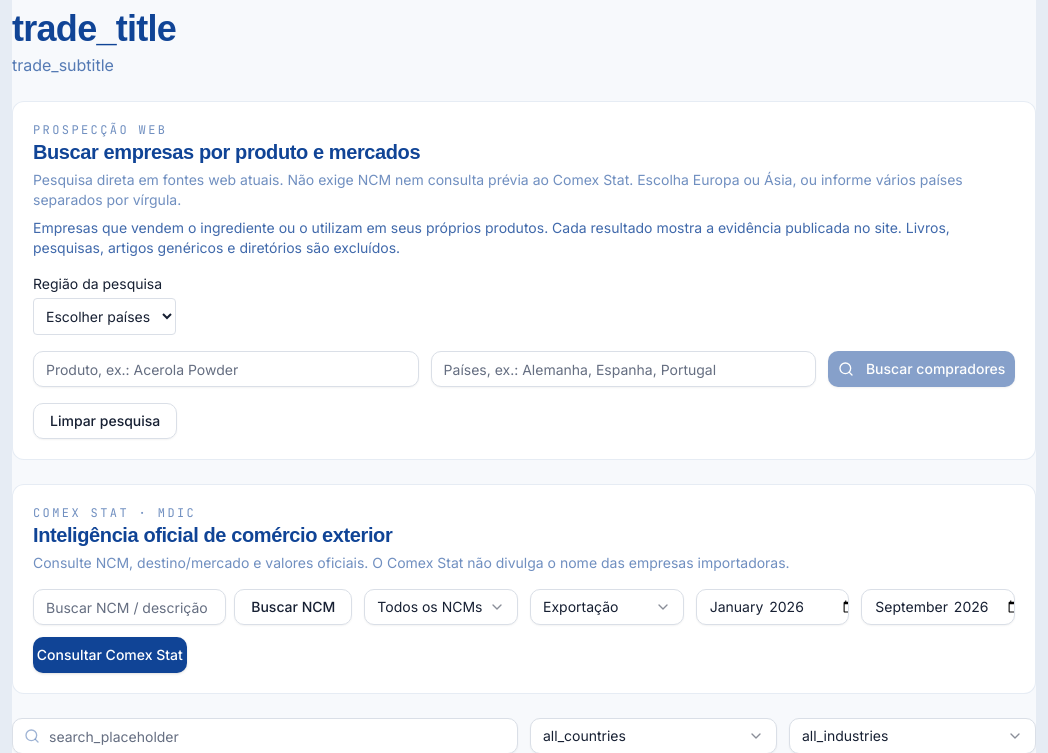
Test: company results distinguish sellers from ingredient users and display their published evidence
In the field with placeholder "Produto, ex.: Acerola Powder": [226, 369] box 33,351 -> 419,387, type "Acerola"
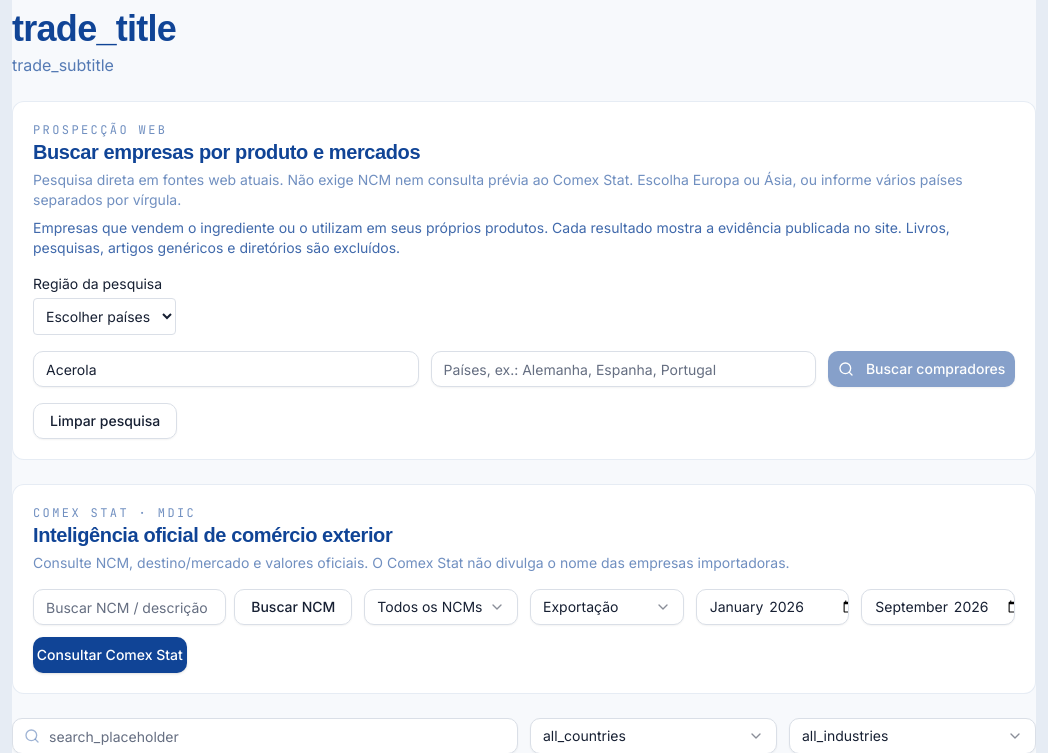
In the field with placeholder "Países, ex.: Alemanha, Espanha, Portugal": [623, 369] box 431,351 -> 816,387, type "Portugal"
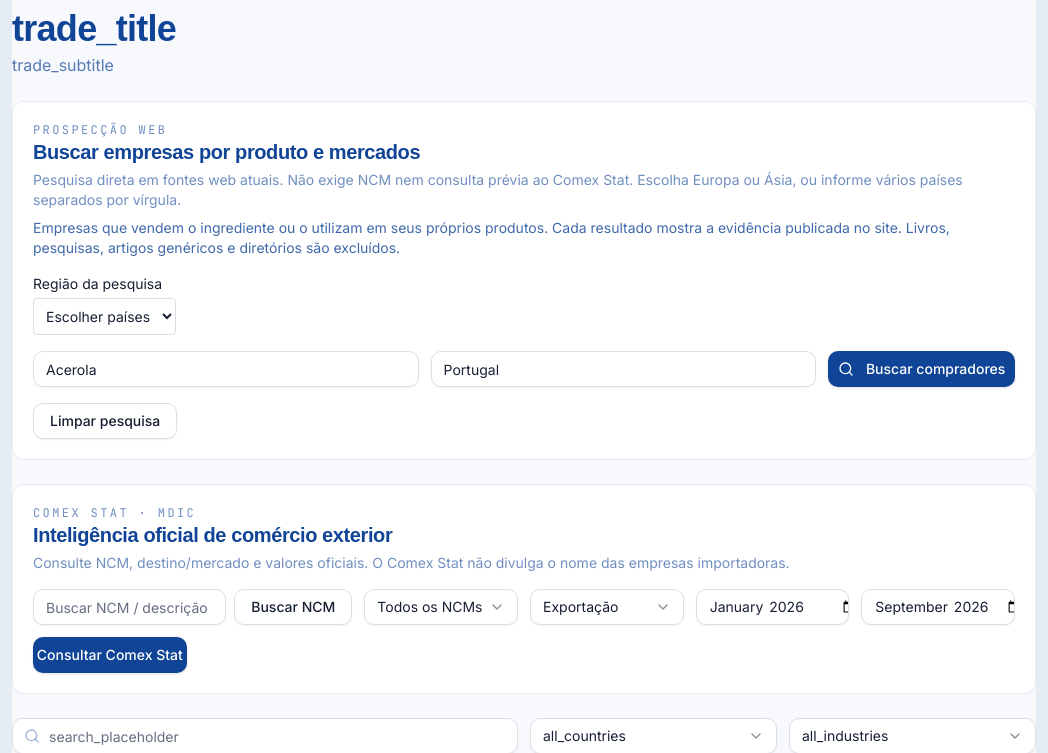
Click the button "Buscar compradores": [922, 369] box 828,351 -> 1015,387
(page scrolled)
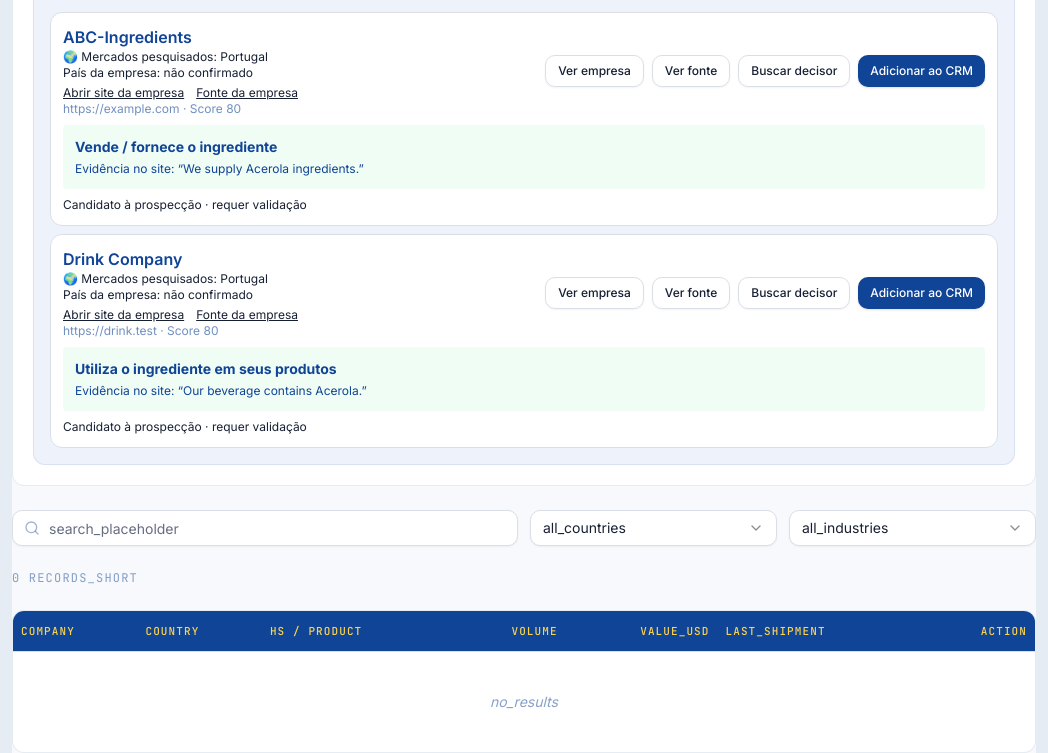
Check: the text "ABC-Ingredients" is shown, box 63,27 -> 192,47
Check: the text "Vende / fornece o ingrediente" is shown, box 75,138 -> 278,155
Check: the text "Utiliza o ingrediente em seus produtos" is shown, box 75,360 -> 337,377
